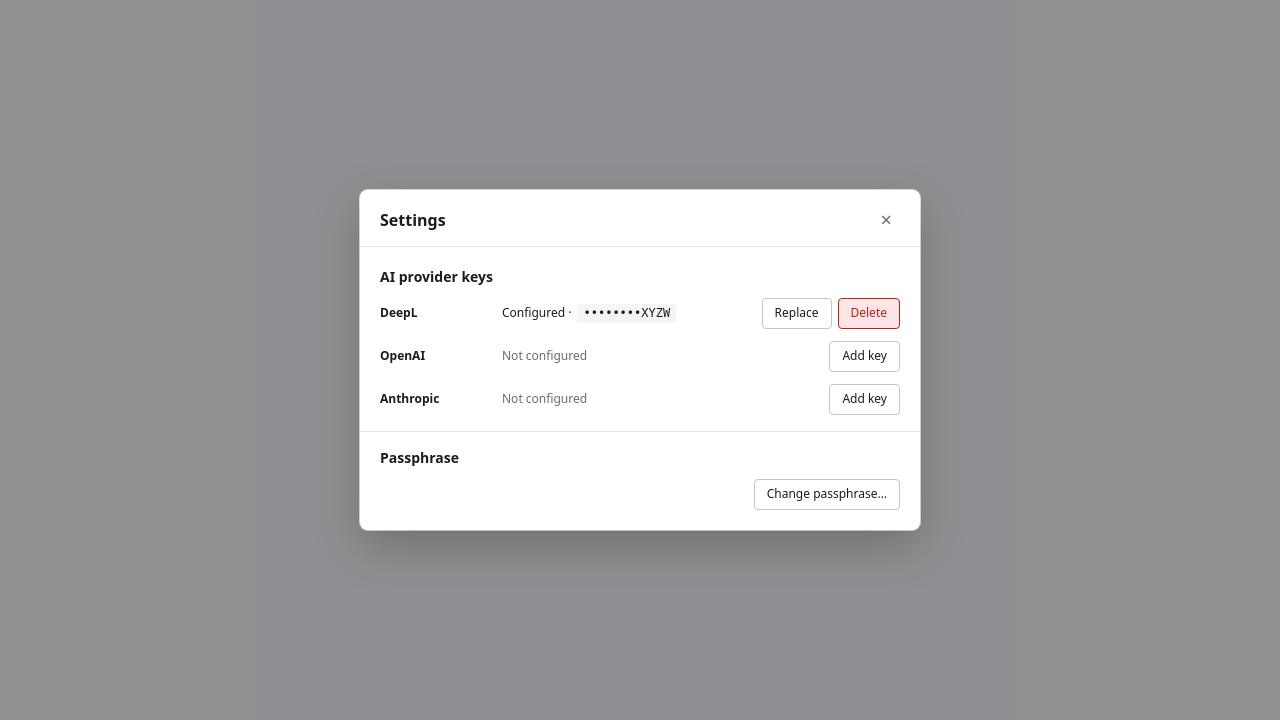
Test: SettingsModal › deletes a configured slot after the inline confirm and notifies the host
Expected: the element named "DeepL: configured" is shown, x1=502 y1=304 x2=676 y2=323
Expected: the text "DeepL" is shown, x1=380 y1=304 x2=418 y2=321
Click the button "Delete".
click(869, 314)  # box x1=838 y1=298 x2=900 y2=329
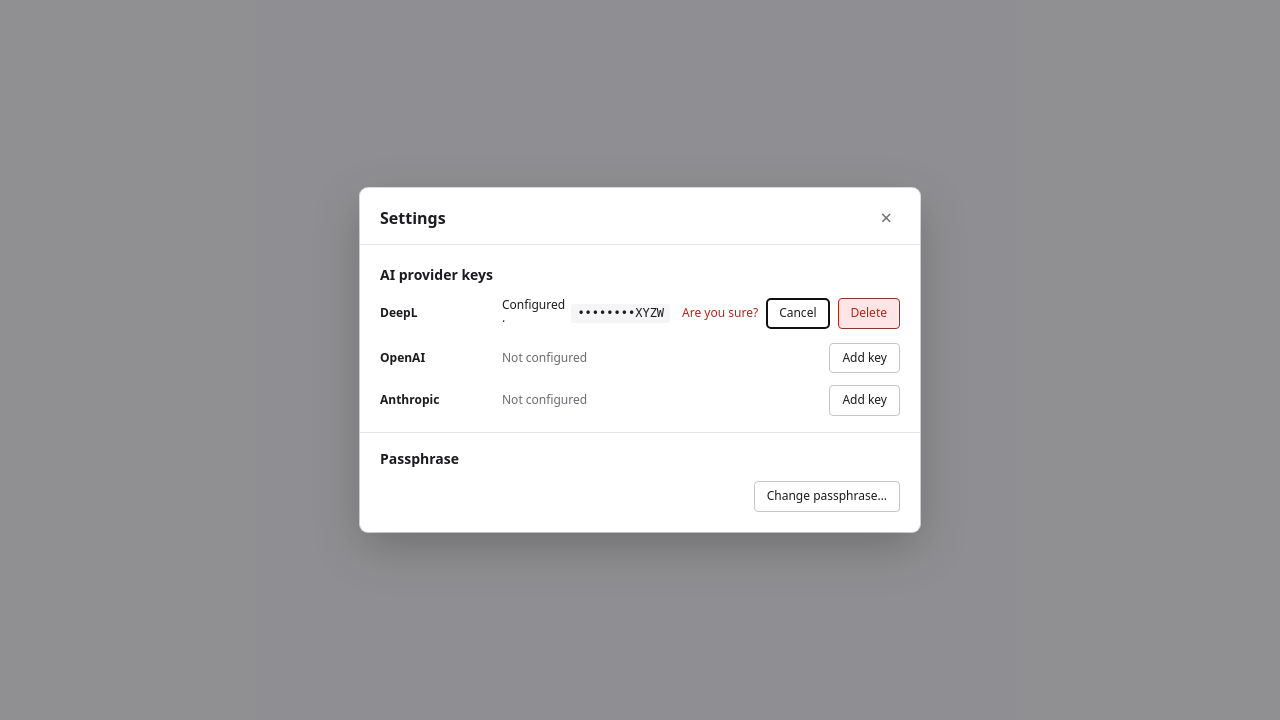
Expected: the text "Are you sure? Cancel Delete" is shown, x1=682 y1=298 x2=900 y2=329
Click the button "Delete".
click(869, 314)  # box x1=838 y1=298 x2=900 y2=329
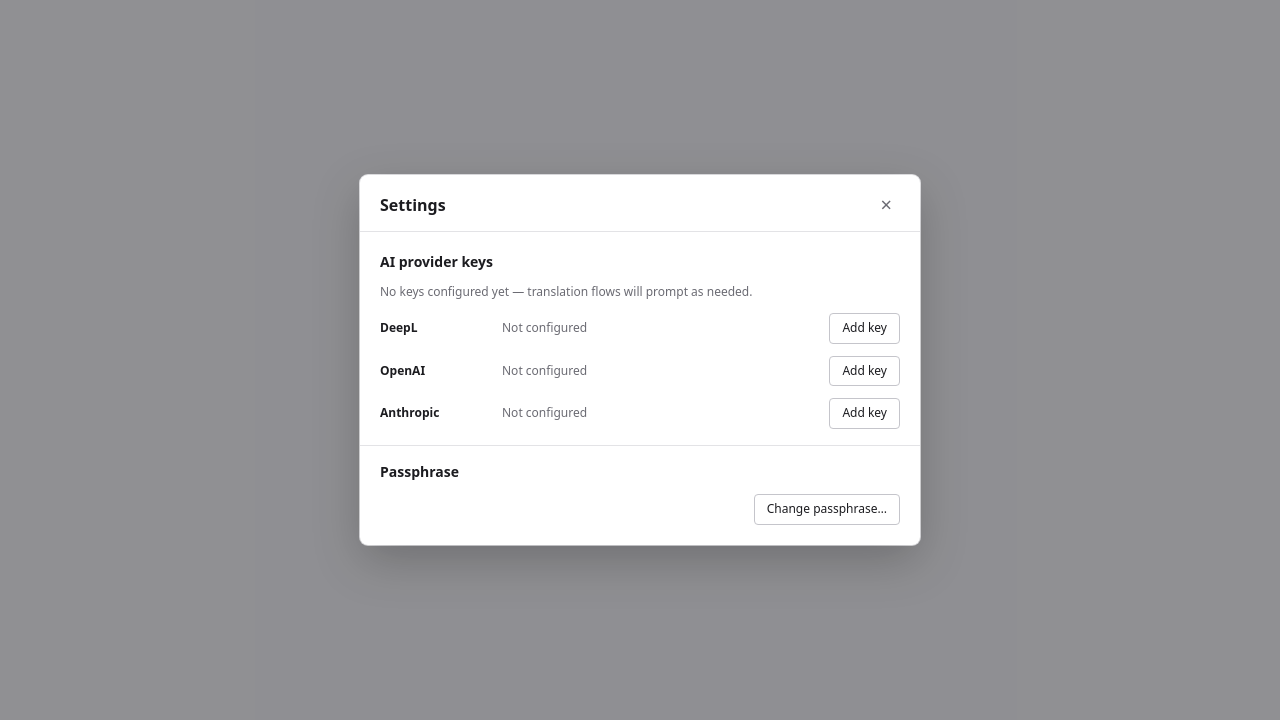
Expected: the text named "DeepL: not configured" is shown, x1=502 y1=319 x2=587 y2=336
